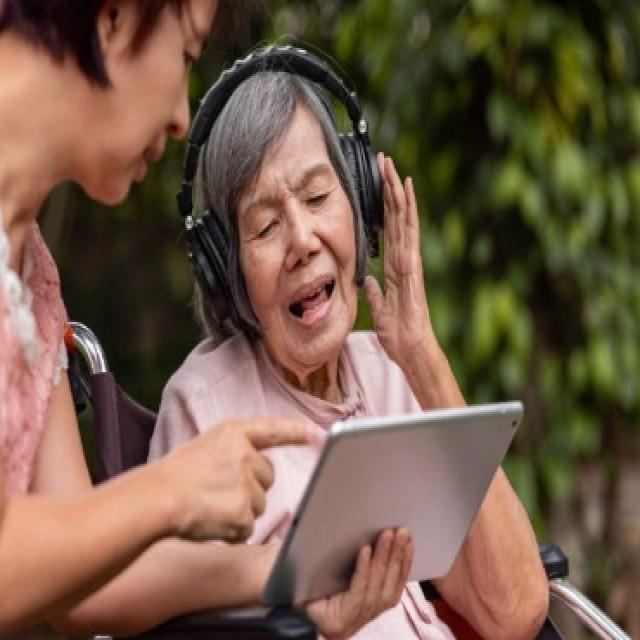adult: (198, 30, 542, 638), (0, 0, 190, 628)
